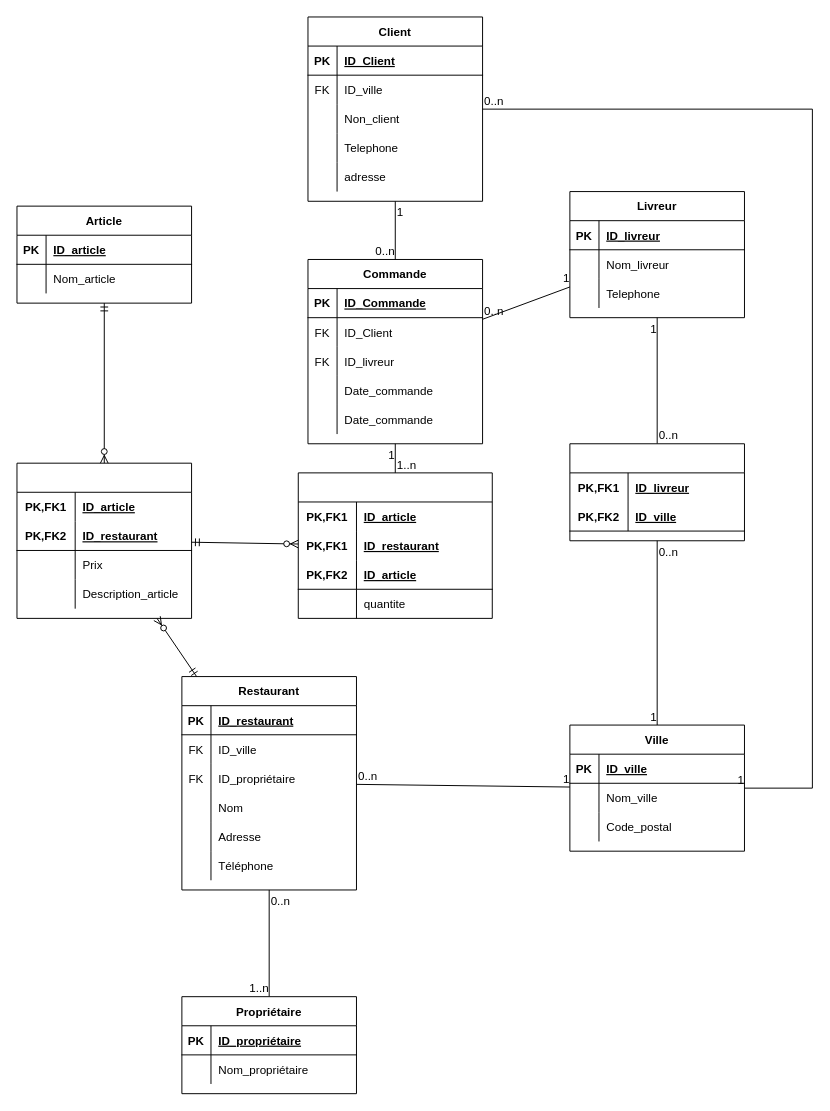
This 830x1111 diagram has some shape labels left out. The shapes that lost their labels are listed below. From the top down, each one's box as (x1, y1, x2, y2) in pixels, then its label:
(569, 443, 744, 541): Livreur_Ville
(16, 462, 192, 618): Article_Restaurant
(297, 472, 492, 618): Article_Commandé
